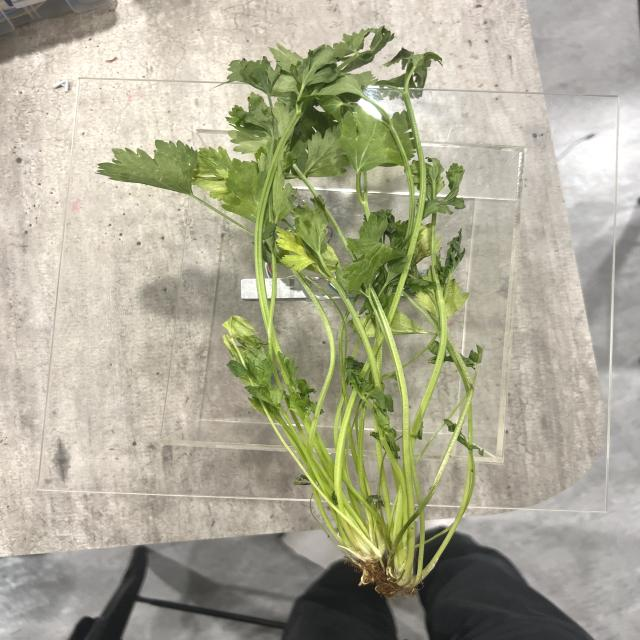chinese celery: (98, 28, 481, 592)
